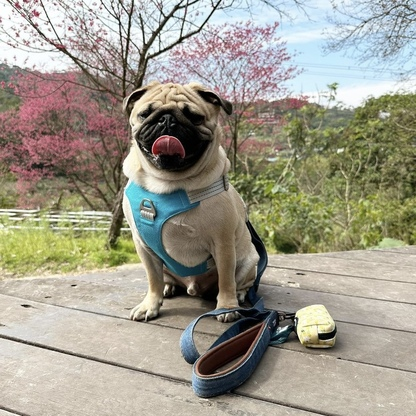Pug: (110, 76, 274, 324)
